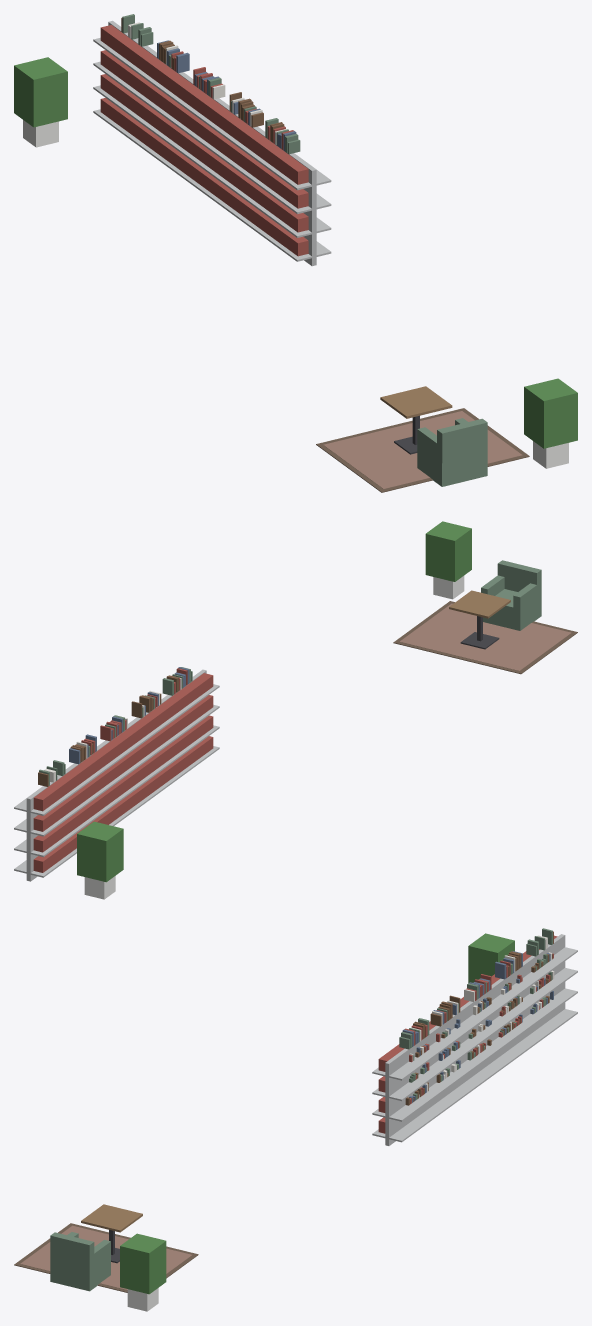
Rendered from fine-s1.glb.
The picture shows the model from 3 angles, top to bottom: view 1: azimuth 30°, elevation 25°; view 2: azimuth 150°, elevation 25°; view 3: azimuth 330°, elevation 25°; orthographic projection. The views are drawn at different scales.
Parts seen in each view (by area): view 1: soft-s1, shelving.004, shelving.000, shelving.002, shelving.001, plant-medium.000, plant-medium.001, sofa.000, shelving.003, coffee-table.000; view 2: soft-s1, shelving.000, shelving.003, shelving.004, shelving.002, shelving.001, plant-medium.001, plant-medium.000, sofa.000, coffee-table.000; view 3: soft-s1, shelving.004, shelving.000, shelving.002, plant-medium.000, sofa.000, shelving.001, shelving.003, plant-medium.001, coffee-table.000.
Part boxes in pixels (x1,y1,x2,y2): soft-s1: (121,14,529,492); shelving.004: (238,127,331,266); shelving.000: (93,20,185,155); shelving.002: (166,75,238,208); shelving.001: (130,47,222,181); plant-medium.000: (524,378,577,468); plant-medium.001: (14,57,67,147); sofa.000: (417,418,487,486); shelving.003: (203,100,294,234); coffee-table.000: (380,386,452,454); soft-s1: (38,601,577,786); shelving.000: (14,762,94,881); shelving.003: (126,694,188,808); shelving.004: (158,669,219,782); shelving.002: (97,717,156,825); shelving.001: (59,739,125,853); plant-medium.001: (77,821,123,899); plant-medium.000: (425,521,471,599); sofa.000: (481,560,541,630); coffee-table.000: (449,590,510,649); soft-s1: (14,928,554,1292); shelving.004: (372,1026,452,1145); shelving.000: (514,934,577,1050); shelving.002: (451,980,515,1096); plant-medium.000: (120,1233,166,1311); sofa.000: (50,1232,110,1291); shelving.001: (483,957,545,1072); shelving.003: (420,1003,484,1118); plant-medium.001: (468,933,514,983); coffee-table.000: (81,1204,142,1263).
Size of the model in its own units: 3.5 by 1.93 by 14.5.
